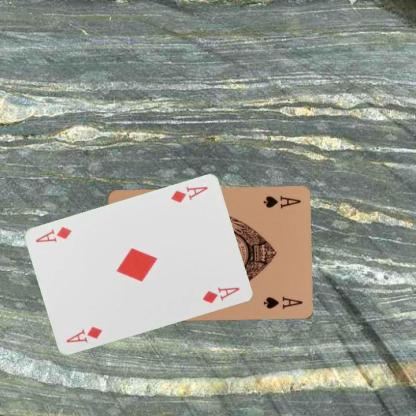Ad: (168, 184, 209, 204), (63, 324, 103, 344)
As: (260, 194, 302, 210)
